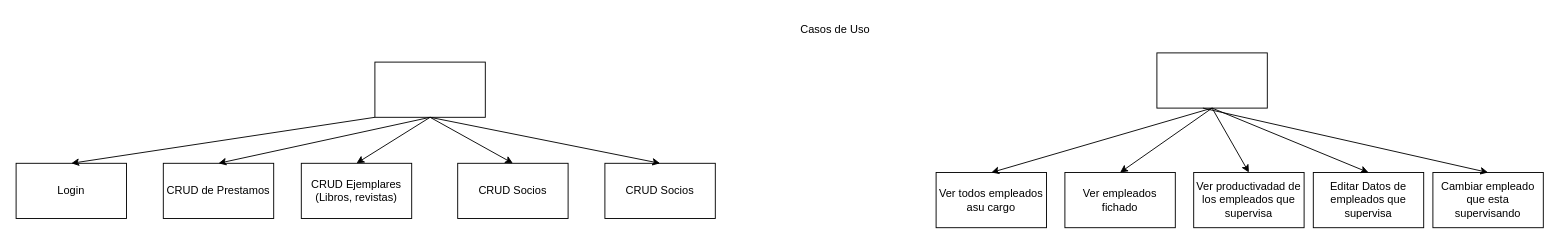
This 1559x244 diagram has some shape labels left out. The shapes that lost their labels are listed below. From the top down, each one's box as (x1, y1, x2, y2) in pixels, then its label:
(374, 61, 485, 117): Bibliotecario /Empleado
(1156, 52, 1267, 108): Supervisor
